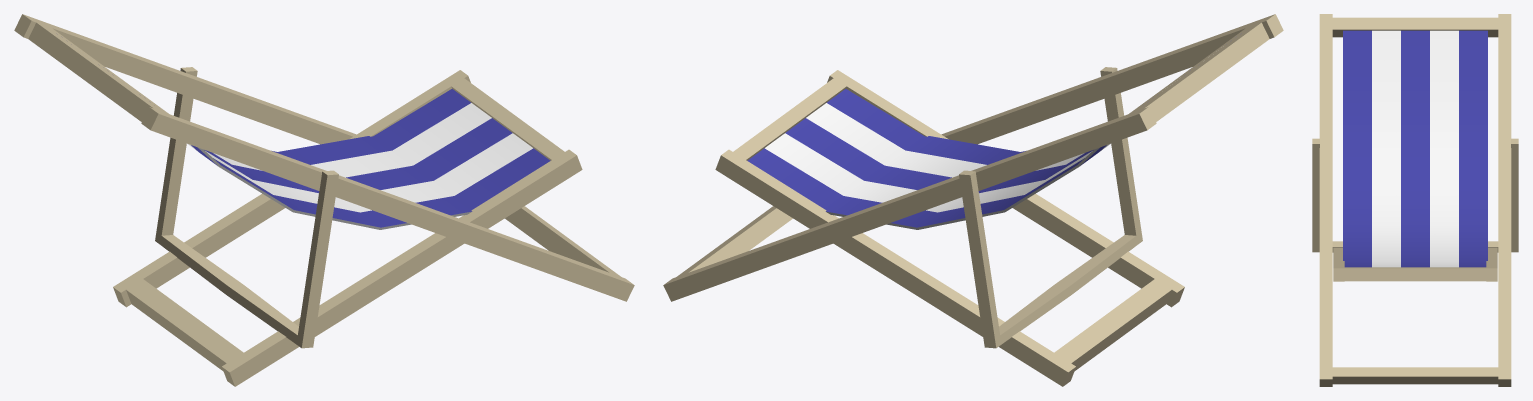
Rendered from beach_chair.fbx.
The picture shows the model from 3 angles, left to right: view 1: azimuth 30°, elevation 25°; view 2: azimuth 150°, elevation 25°; view 3: azimuth 270°, elevation 25°; orthographic projection. The views are drawn at different scales.
Parts seen in each view (by area): view 1: beachchair; view 2: beachchair; view 3: beachchair.
Part boxes in pixels (x1=…): beachchair: x1=14, y1=14, x2=634, y2=386; beachchair: x1=663, y1=14, x2=1283, y2=386; beachchair: x1=1312, y1=14, x2=1518, y2=386.
Bounding box in the file's own units: 8.81 × 5.25 × 4.62.
